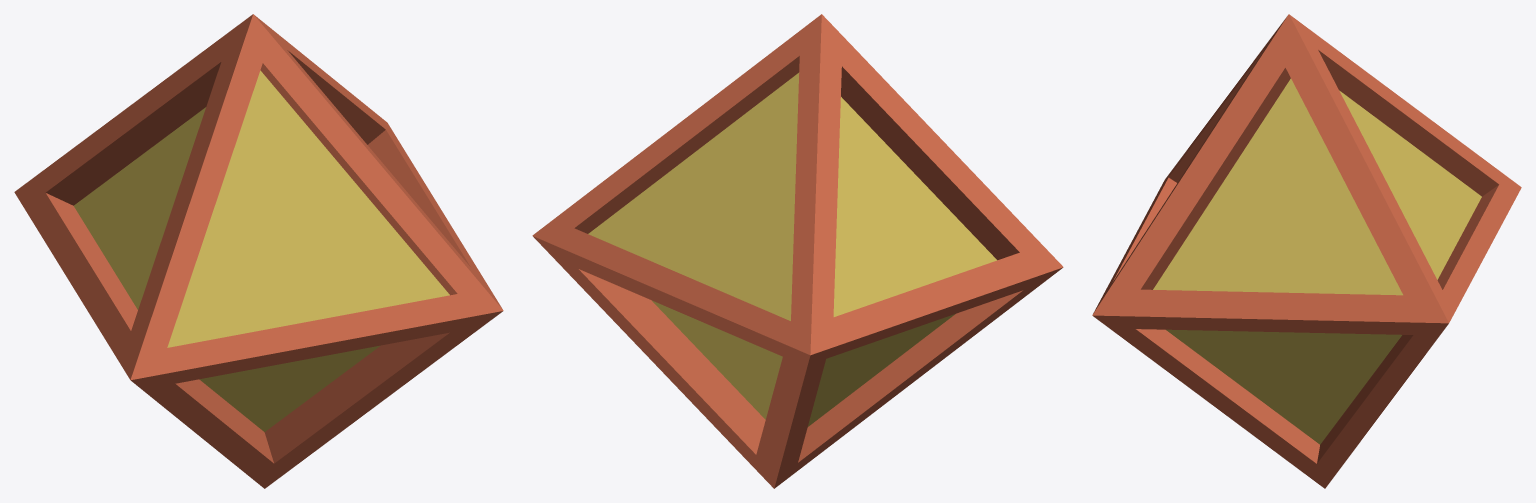
The model's file is Torche 1.fbx.
3 views of the same model, side by side, from view 1: azimuth 30°, elevation 25°; view 2: azimuth 150°, elevation 25°; view 3: azimuth 270°, elevation 25° (orthographic). The views are drawn at different scales.
Parts seen in each view (by area): view 1: torche.001; view 2: torche.001; view 3: torche.001.
Boxes of the visible parts, box(x1,y1,x2,y2) form: torche.001: box(14, 14, 503, 488); torche.001: box(532, 14, 1063, 488); torche.001: box(1092, 14, 1521, 488).
Bounding box in the file's own units: 66.95 × 77.45 × 65.42.
